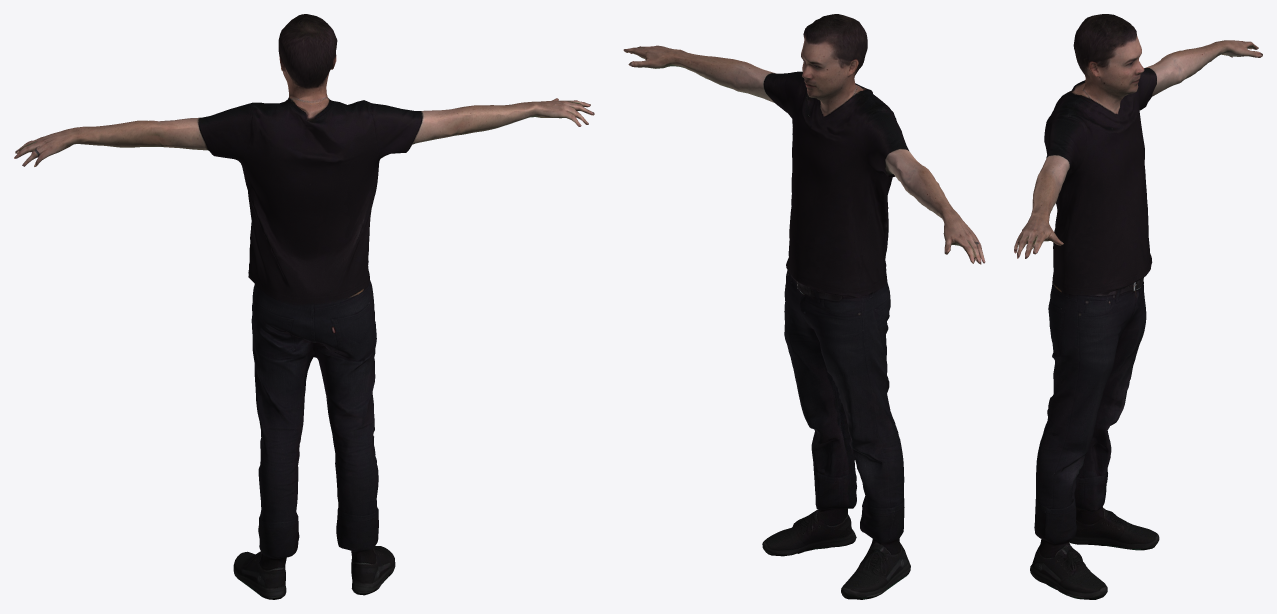
Rendered from ericday.glb.
3 renders of one model, left to right at view 1: azimuth 30°, elevation 25°; view 2: azimuth 150°, elevation 25°; view 3: azimuth 270°, elevation 25°, orthographic.
Parts seen in each view (by area): view 1: Mesh-F00001; view 2: Mesh-F00001; view 3: Mesh-F00001.
Boxes of the visible parts, x1,y1,x2,y2 form: Mesh-F00001: (14,14,594,599); Mesh-F00001: (623,14,985,599); Mesh-F00001: (1014,14,1262,599).
Bounding box in the file's own units: 1.31 × 1.49 × 0.611.
1 material, 1 textured.
